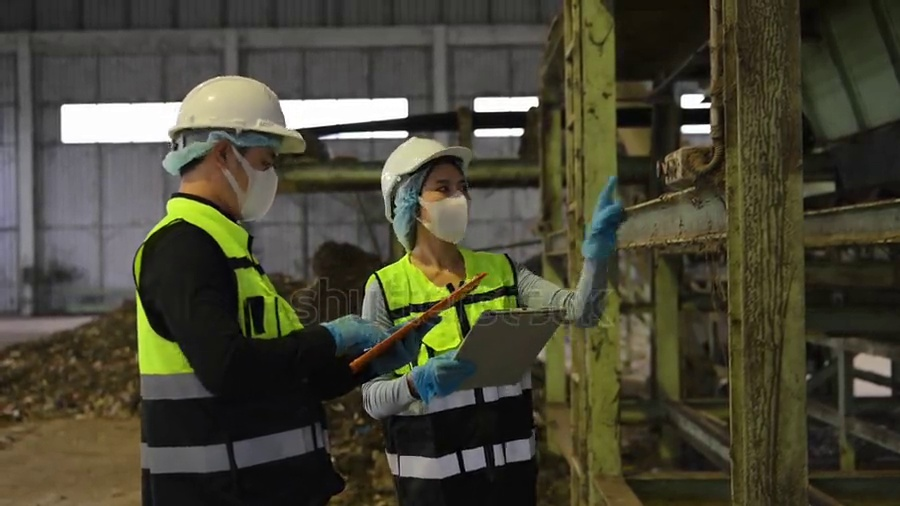helmet: (169, 74, 307, 154), (380, 136, 474, 225)
mask: (236, 164, 280, 224), (419, 196, 471, 244)
person: (127, 74, 427, 502), (359, 136, 630, 506)
